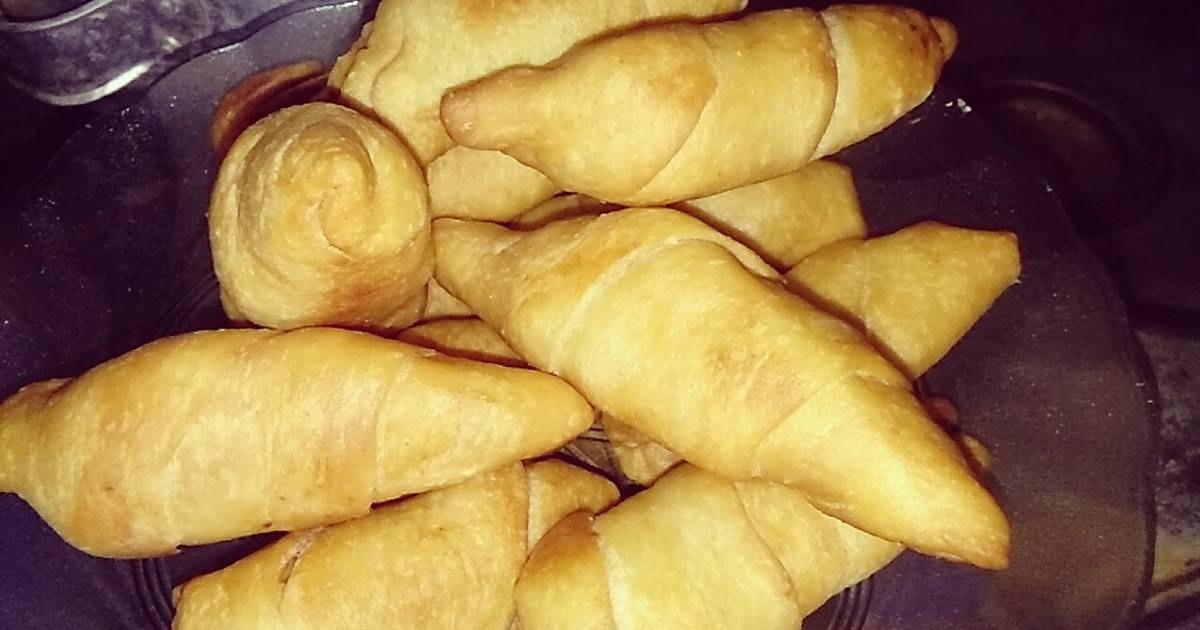pisang_molen: (430, 207, 1016, 570), (2, 327, 585, 562), (439, 6, 959, 207)
